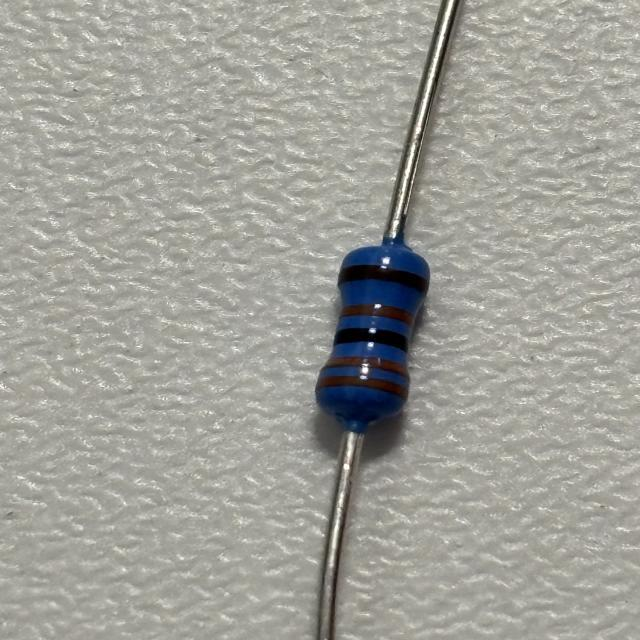resistor: (314, 242, 433, 420)
